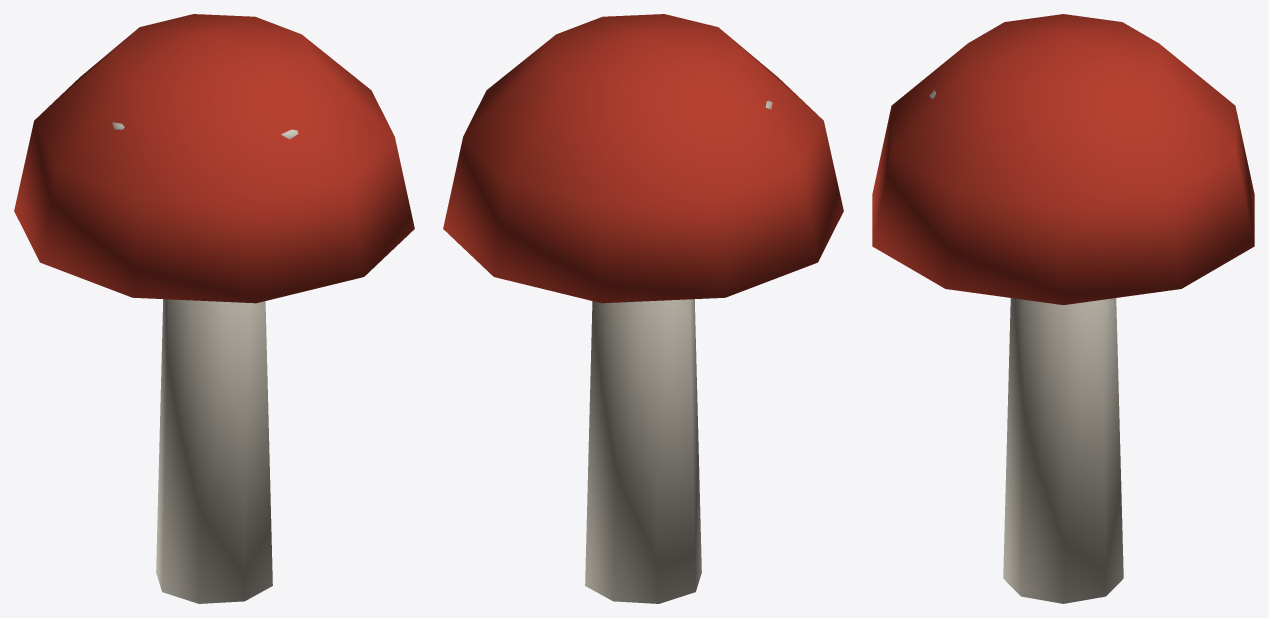
File: mushroom_plant_v0.glb
3 views of the same model, side by side, from view 1: azimuth 30°, elevation 25°; view 2: azimuth 150°, elevation 25°; view 3: azimuth 270°, elevation 25° (orthographic).
Parts seen in each view (by area): view 1: mushroom_plant_v0; view 2: mushroom_plant_v0; view 3: mushroom_plant_v0.
Boxes of the visible parts, x1=… form: mushroom_plant_v0: x1=14, y1=14, x2=414, y2=603; mushroom_plant_v0: x1=443, y1=14, x2=843, y2=603; mushroom_plant_v0: x1=872, y1=14, x2=1254, y2=603.
Bounding box in the file's own units: 0.2 × 0.2968 × 0.1902.
